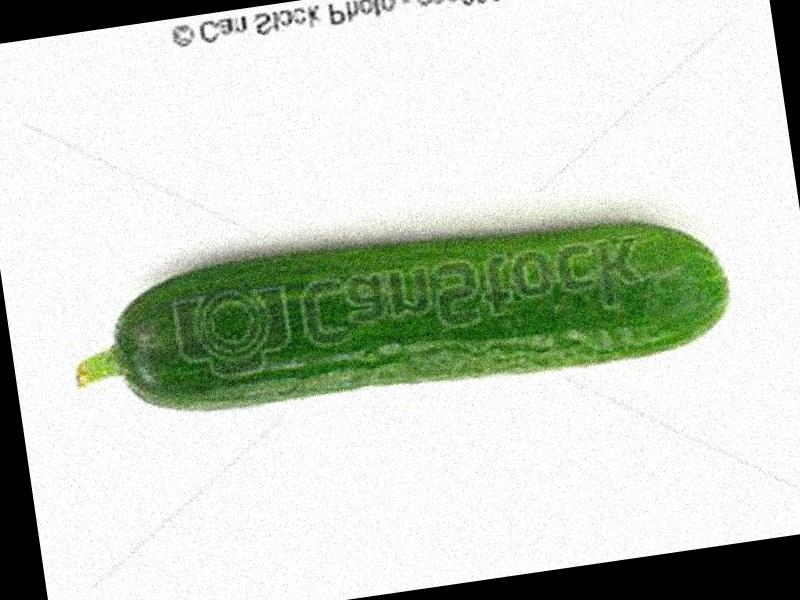Cucumber: (59, 190, 741, 437)
